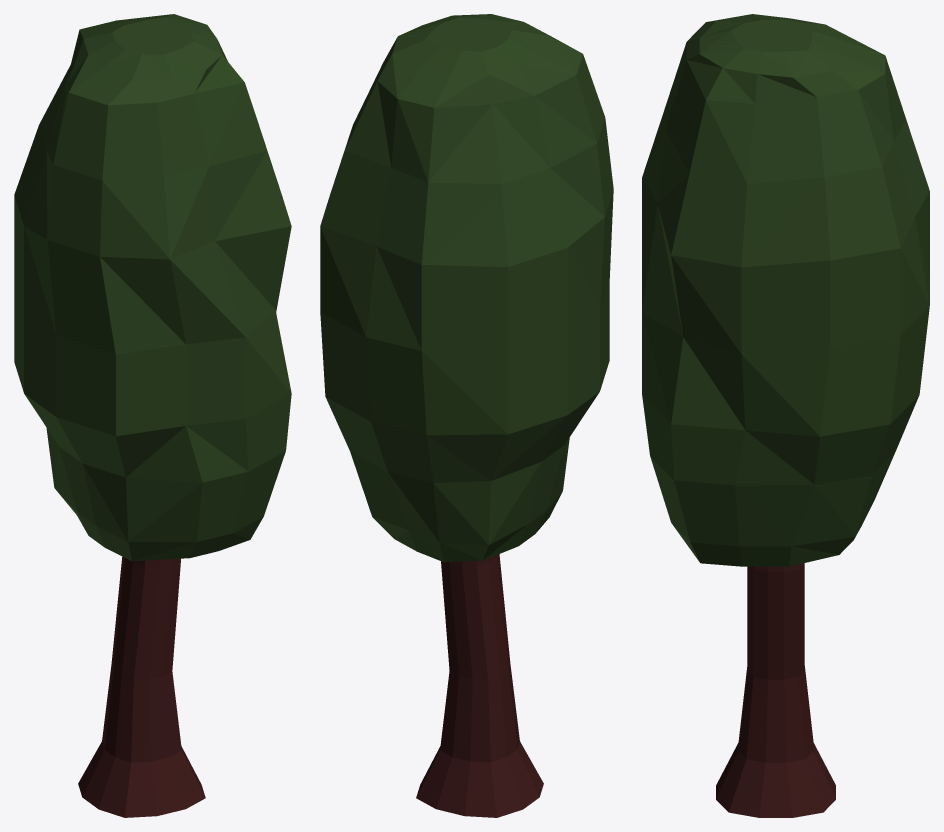
The model's file is Trees5.fbx.
3 renders of one model, left to right at view 1: azimuth 30°, elevation 25°; view 2: azimuth 150°, elevation 25°; view 3: azimuth 270°, elevation 25°, orthographic.
Visible parts, largest first — view 1: Trunk5; view 2: Trunk5; view 3: Trunk5.
Boxes of the visible parts, left/top/right/bottom form: Trunk5: left=14, top=14, right=291, bottom=817; Trunk5: left=320, top=14, right=613, bottom=817; Trunk5: left=642, top=14, right=929, bottom=817.
Size of the model in its own units: 1733 by 5354 by 1833.
